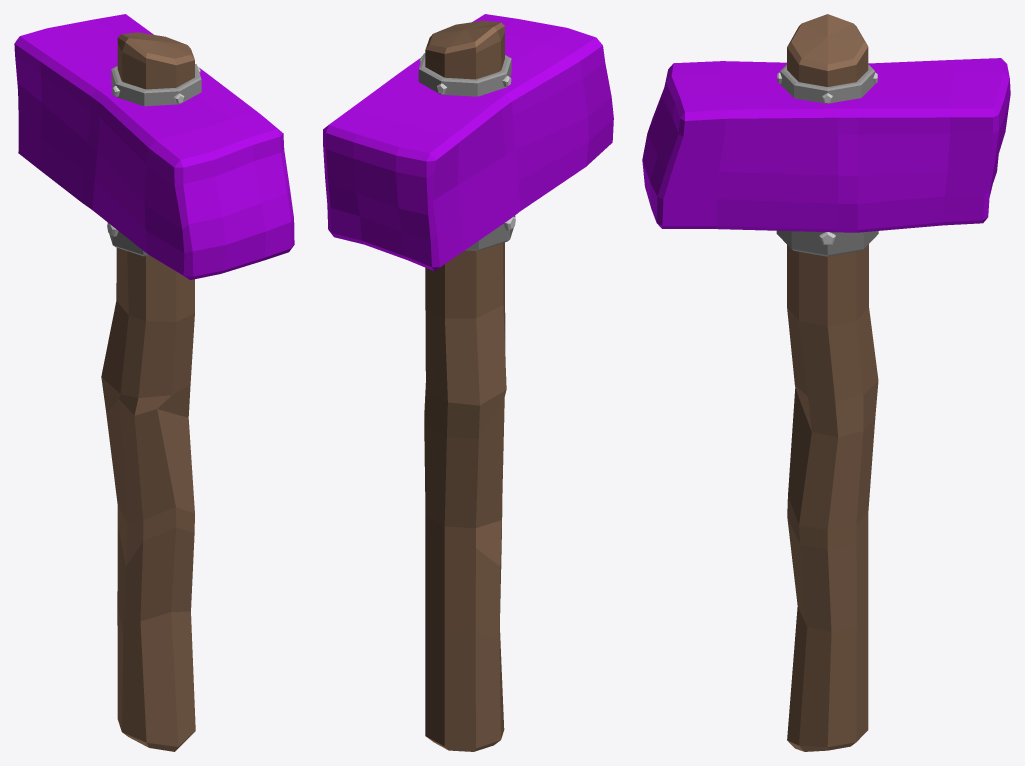
The model's file is Hammer1_Purple.fbx.
3 views of the same model, side by side, from view 1: azimuth 30°, elevation 25°; view 2: azimuth 150°, elevation 25°; view 3: azimuth 270°, elevation 25° (orthographic). The views are drawn at different scales.
Visible parts, largest first — view 1: Hammer1_Purple; view 2: Hammer1_Purple; view 3: Hammer1_Purple.
Boxes of the visible parts, bbox=[...] form: Hammer1_Purple: bbox=[14, 14, 294, 751]; Hammer1_Purple: bbox=[323, 14, 613, 751]; Hammer1_Purple: bbox=[642, 14, 1010, 751].
Size of the model in its own units: 12.57 by 64.18 by 29.77.
